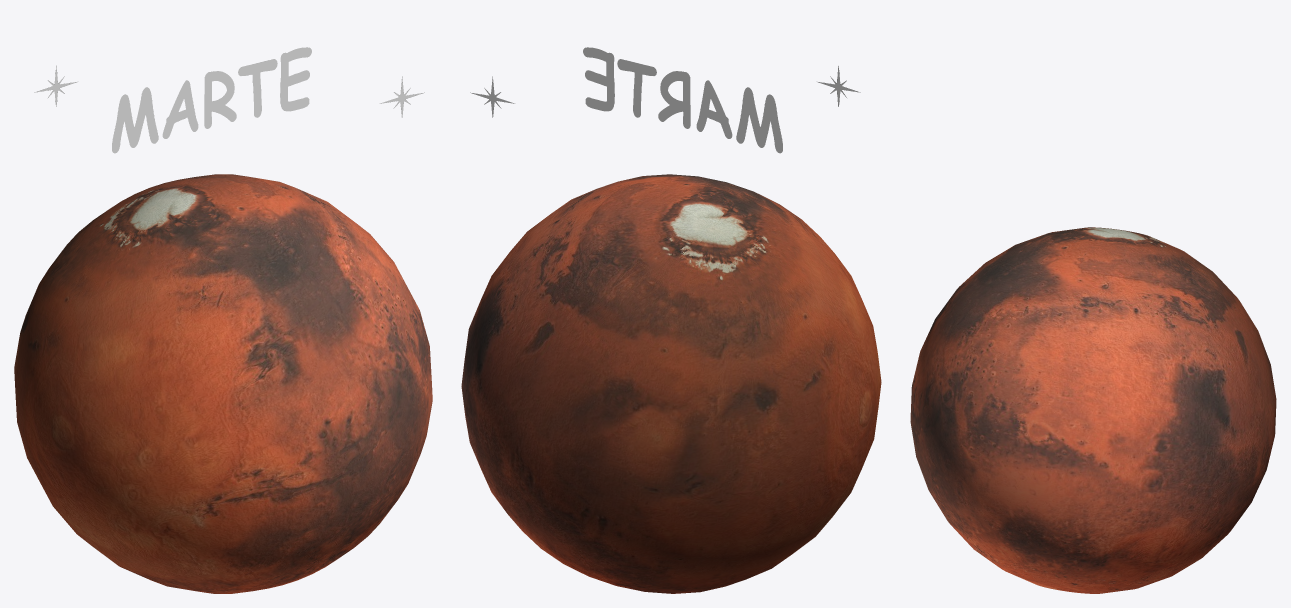
File: marte.glb
3 views of the same model, side by side, from view 1: azimuth 30°, elevation 25°; view 2: azimuth 150°, elevation 25°; view 3: azimuth 270°, elevation 25° (orthographic). The views are drawn at different scales.
Visible parts, largest first — view 1: marte, Letra; view 2: marte, Letra; view 3: marte.
Boxes of the visible parts, x1,y1,x2,y2 form: marte: (14, 174, 432, 593); Letra: (112, 47, 311, 153); marte: (461, 174, 881, 593); Letra: (583, 47, 782, 153); marte: (910, 227, 1276, 593).
Size of the model in its own units: 1.4 by 1.89 by 1.3.
Materials: 2 (2 with a texture image).
